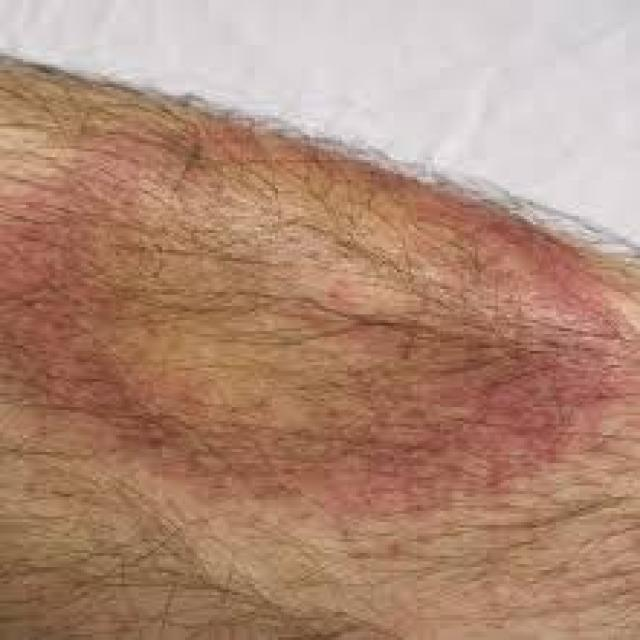kene: (2, 108, 619, 500)
